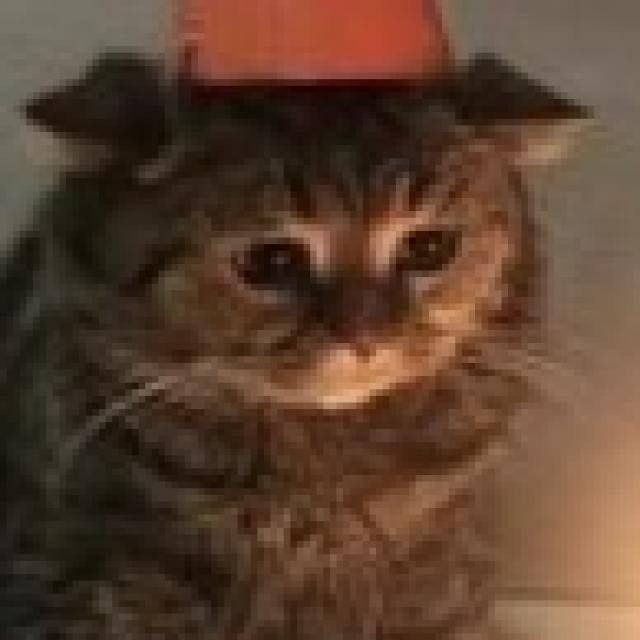Sad: (186, 179, 481, 408)
